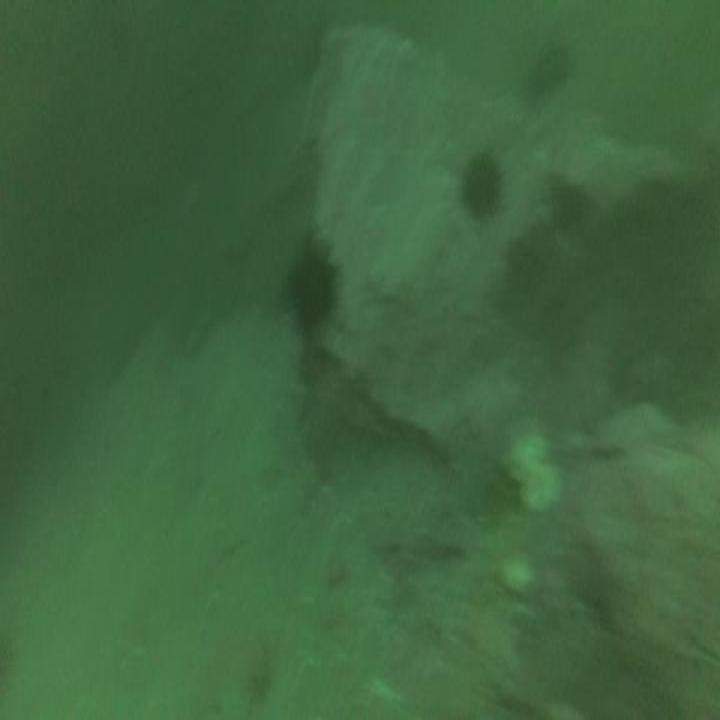echinus: (281, 246, 343, 340), (458, 144, 508, 226), (531, 39, 570, 103)
holothurian: (245, 626, 271, 709)
